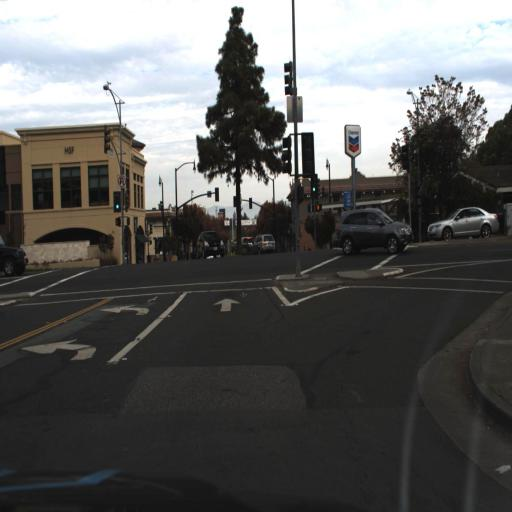car: (334, 204, 413, 255), (427, 202, 499, 245), (0, 230, 29, 277), (193, 230, 226, 258), (253, 232, 276, 254)
trafficLight-Green: (310, 171, 319, 196), (113, 190, 121, 212)
